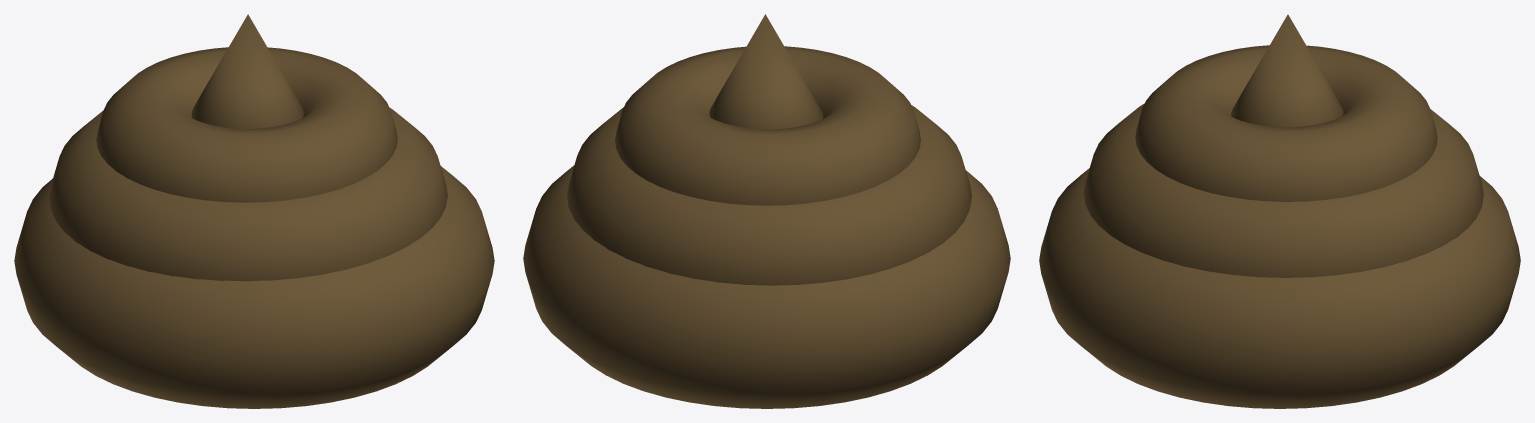
Rendered from poop.fbx.
The picture shows the model from 3 angles, left to right: view 1: azimuth 30°, elevation 25°; view 2: azimuth 150°, elevation 25°; view 3: azimuth 270°, elevation 25°; orthographic projection.
Parts seen in each view (by area): view 1: Torus.000, Torus.002, Torus.001, Cone; view 2: Torus.000, Torus.002, Torus.001, Cone; view 3: Torus.000, Torus.002, Torus.001, Cone.
Boxes of the visible parts, box(x1,y1,x2,y2) form: Torus.000: box(14, 166, 494, 408); Torus.002: box(49, 107, 447, 281); Torus.001: box(96, 47, 397, 202); Cone: box(191, 14, 303, 128); Torus.000: box(523, 165, 1010, 408); Torus.002: box(567, 105, 971, 285); Torus.001: box(615, 46, 920, 205); Cone: box(709, 14, 823, 129); Torus.000: box(1039, 168, 1520, 408); Torus.002: box(1083, 103, 1483, 277); Torus.001: box(1135, 45, 1437, 201); Cone: box(1231, 14, 1343, 127).
Size of the model in its own units: 64.03 by 46.8 by 64.03.
